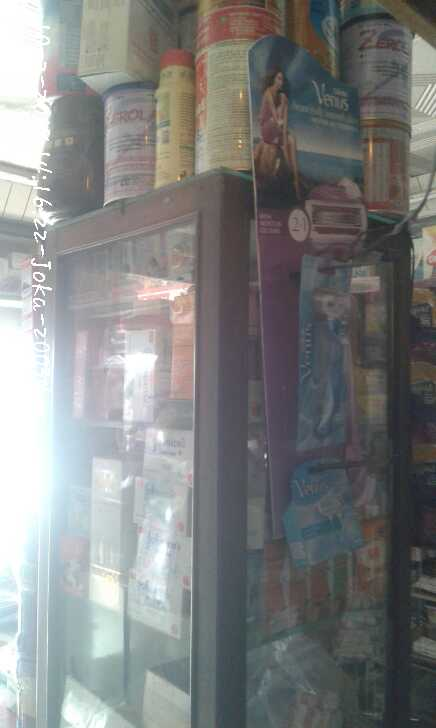venus: (297, 259, 349, 443), (280, 458, 364, 563)
